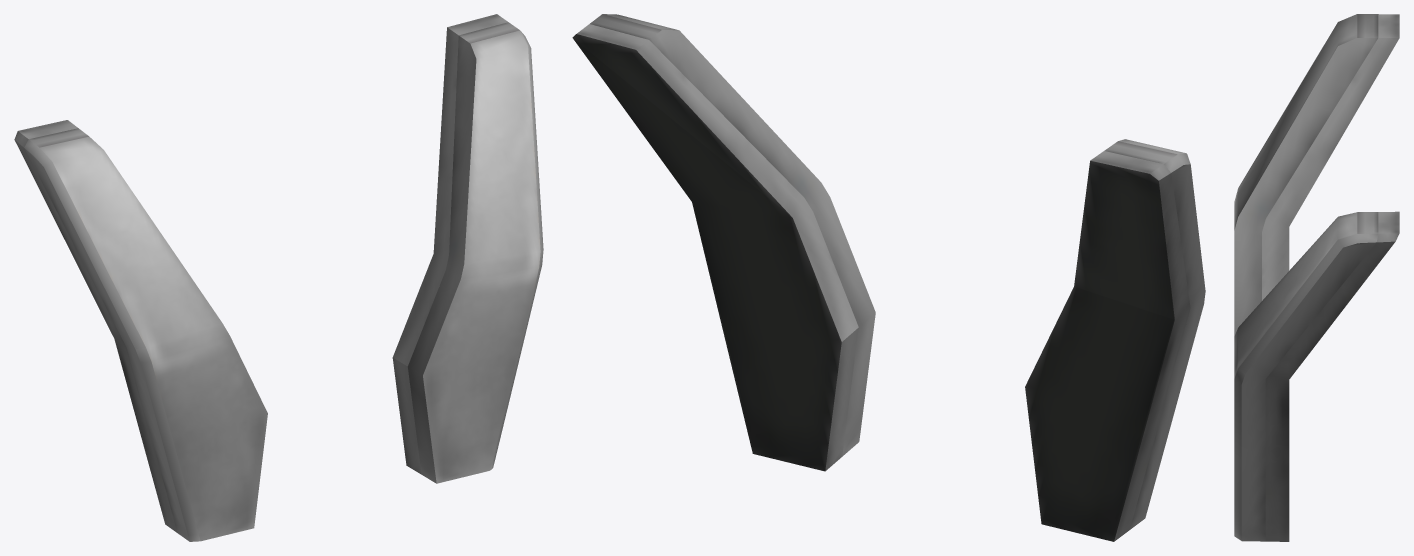
The model's file is RocketLauncherPack.FBX.
3 renders of one model, left to right at view 1: azimuth 30°, elevation 25°; view 2: azimuth 150°, elevation 25°; view 3: azimuth 270°, elevation 25°, orthographic. The views are drawn at different scales.
Visible parts, largest first — view 1: LauncherCovers, RocketLaunchers; view 2: RocketLaunchers, LauncherCovers; view 3: LauncherCovers, RocketLaunchers.
Boxes of the visible parts, x1,y1,x2,y2 form: LauncherCovers: (24, 22, 543, 541); RocketLaunchers: (14, 14, 508, 532); RocketLaunchers: (572, 24, 1190, 541); LauncherCovers: (590, 14, 1205, 529); LauncherCovers: (1234, 14, 1378, 541); RocketLaunchers: (1262, 14, 1399, 541).
Bounding box in the file's own units: 0.8495 × 0.6149 × 0.2638.
1 material, 1 textured.
